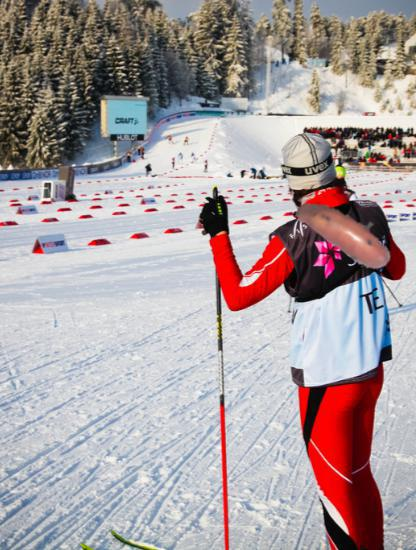Banana: (294, 178, 401, 285)
